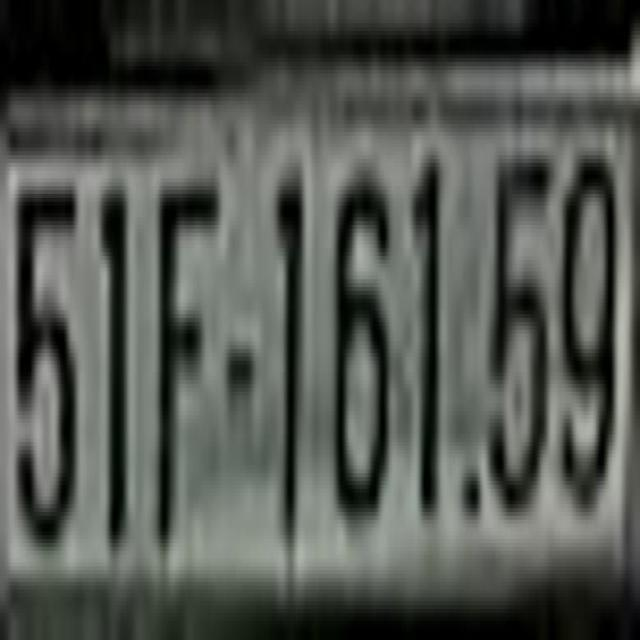1: (409, 142, 445, 526), (272, 149, 306, 545), (98, 170, 130, 550)
5: (14, 165, 80, 549), (488, 132, 552, 516)
6: (333, 150, 391, 534)
9: (561, 134, 617, 518)
F: (155, 163, 221, 551)
